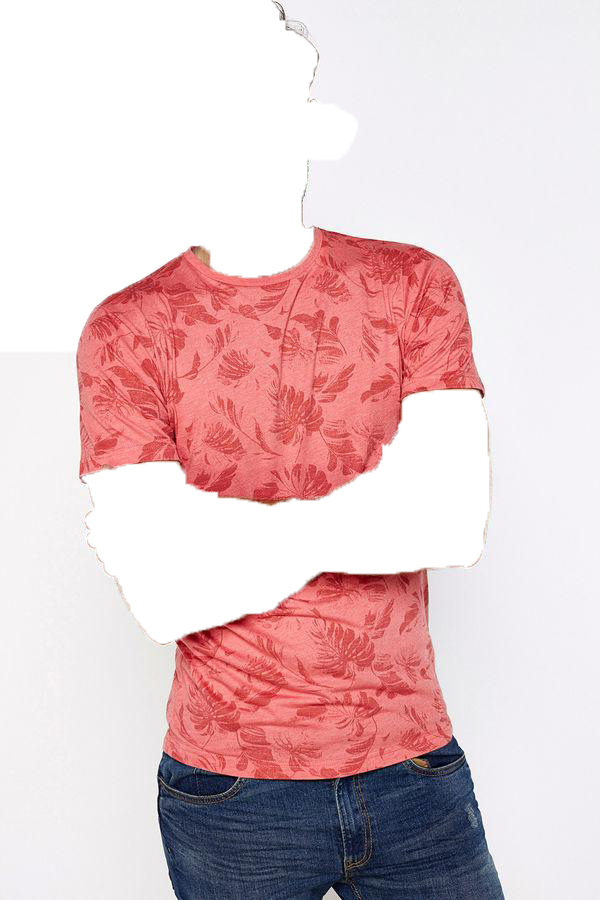teeshirt: (75, 229, 482, 784)
